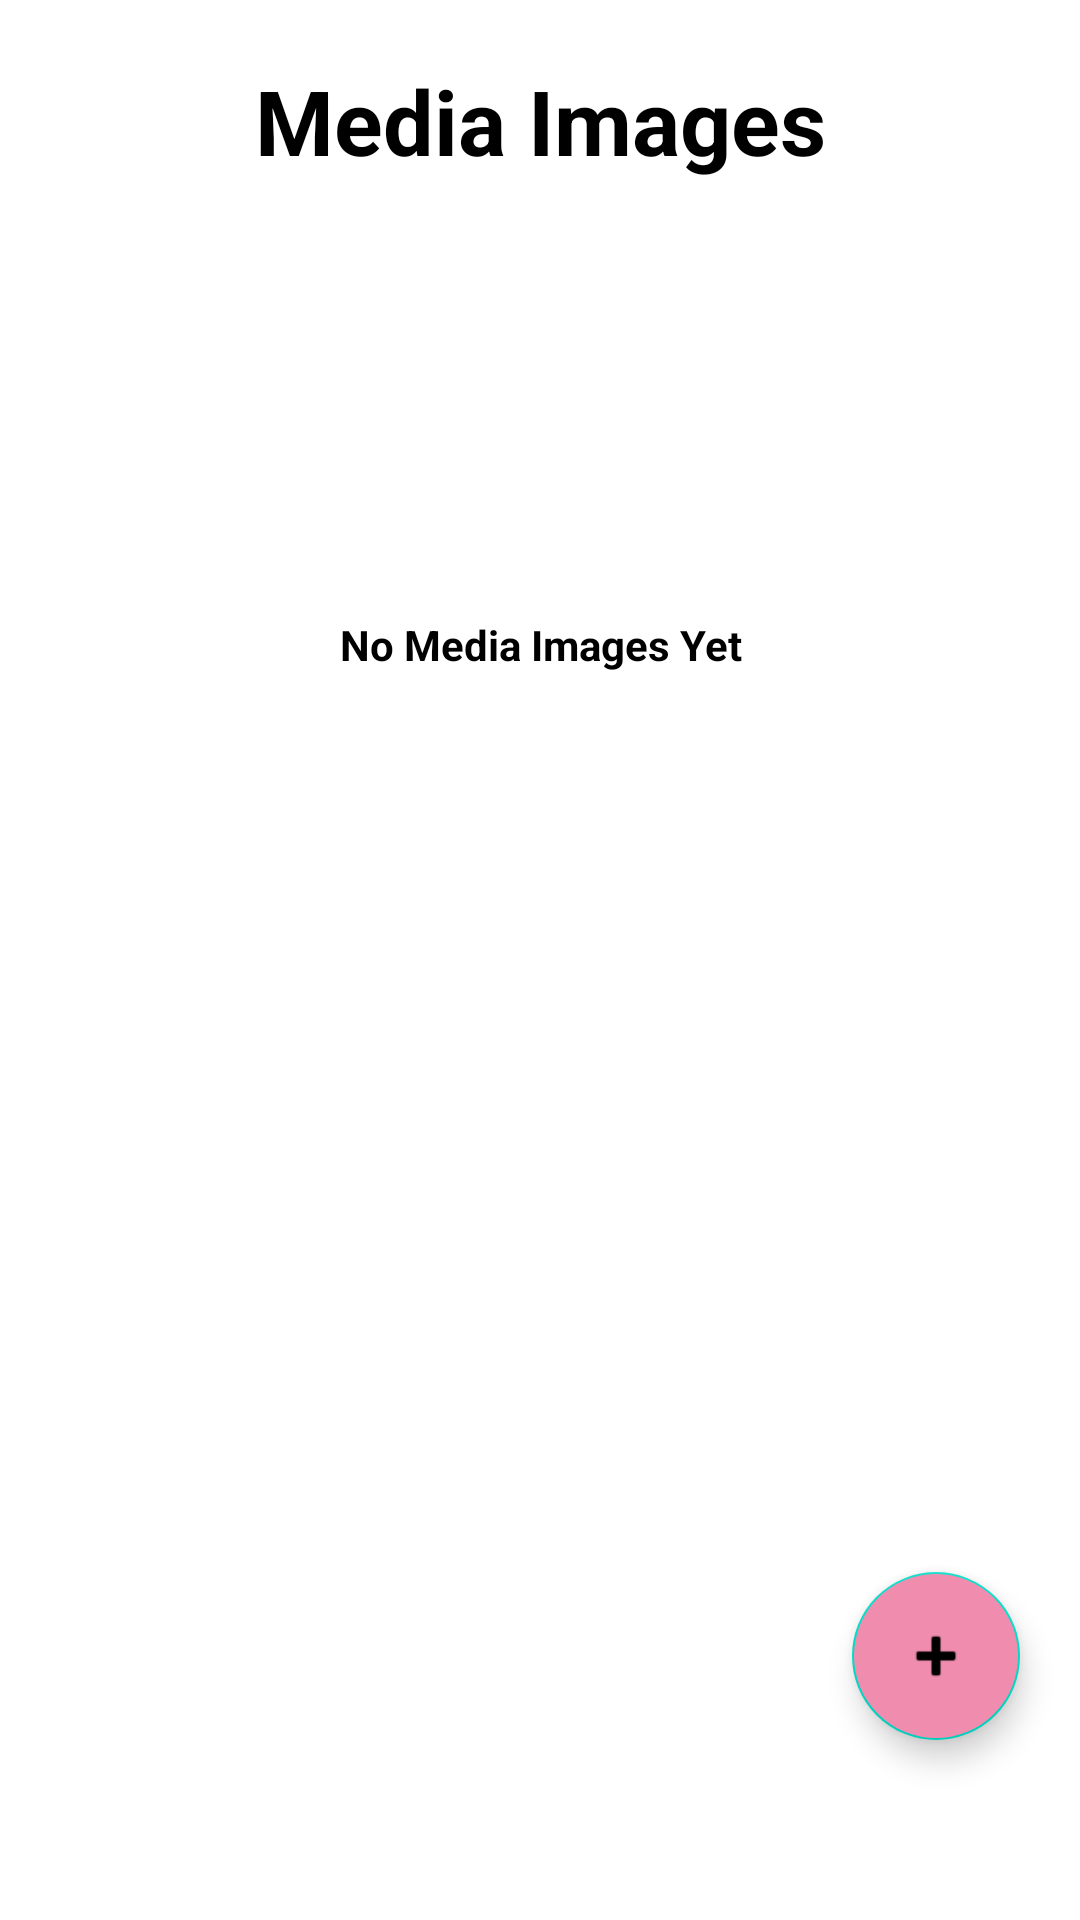

Icons on this 1080*1920 Android screen, each with the point to tap as [x,y]:
Add Reminder: [936,1656]
